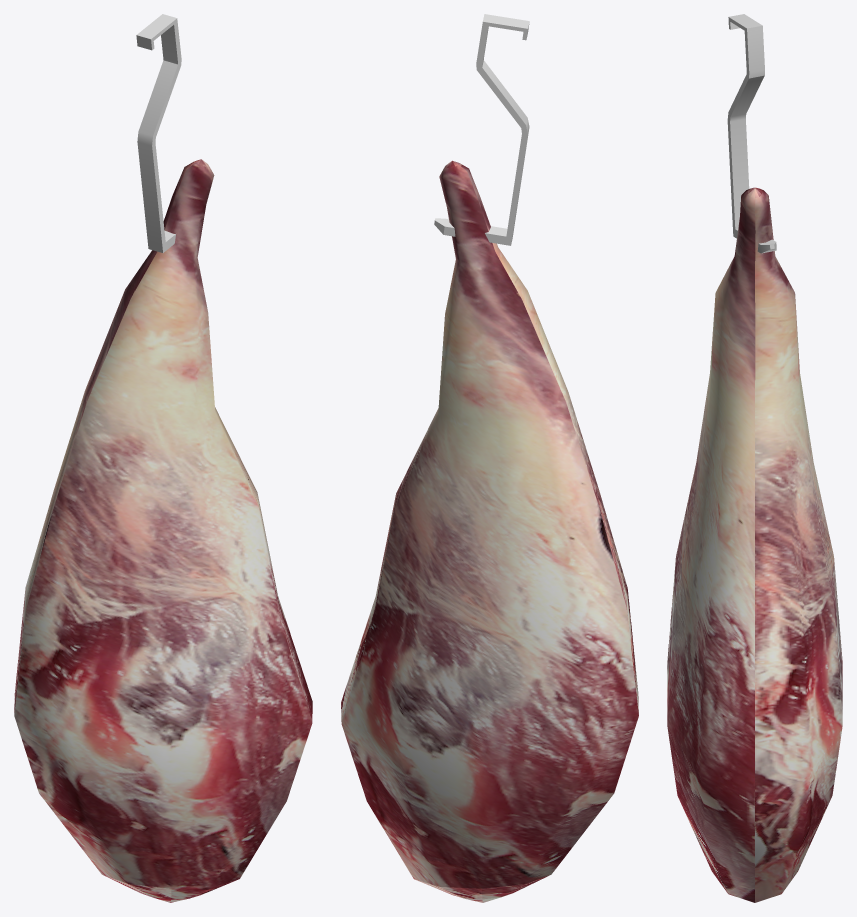
Rendered from meat.fbx.
3 views of the same model, side by side, from view 1: azimuth 30°, elevation 25°; view 2: azimuth 150°, elevation 25°; view 3: azimuth 270°, elevation 25° (orthographic). The views are drawn at different scales.
Visible parts, largest first — view 1: meat, huk; view 2: meat, huk; view 3: meat, huk.
Part boxes in pixels (x1,y1,x2,y2): meat: (14, 159, 312, 902); huk: (136, 14, 181, 252); meat: (341, 160, 638, 902); huk: (434, 14, 529, 245); meat: (667, 187, 842, 902); huk: (727, 14, 776, 253).
Bounding box in the file's own units: 76.19 × 216 × 40.
Materials: 2 (1 with a texture image).
